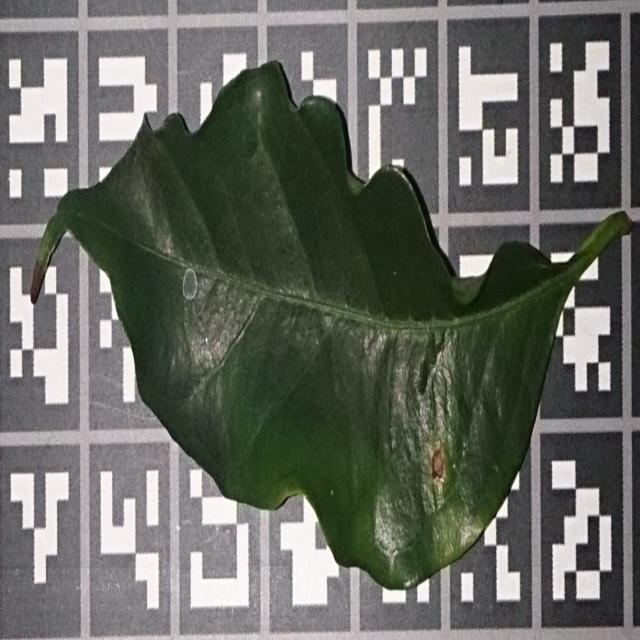Enfermedad-Mancha-de-hierro: (28, 60, 628, 593)
